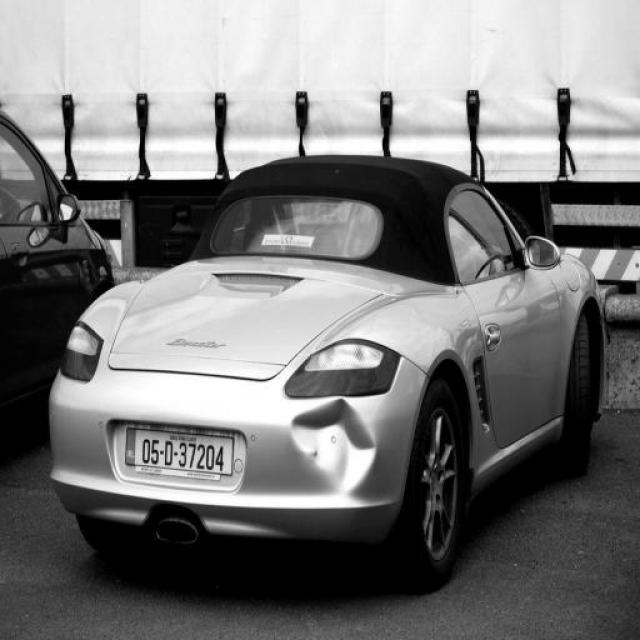dent: (288, 398, 376, 498)
